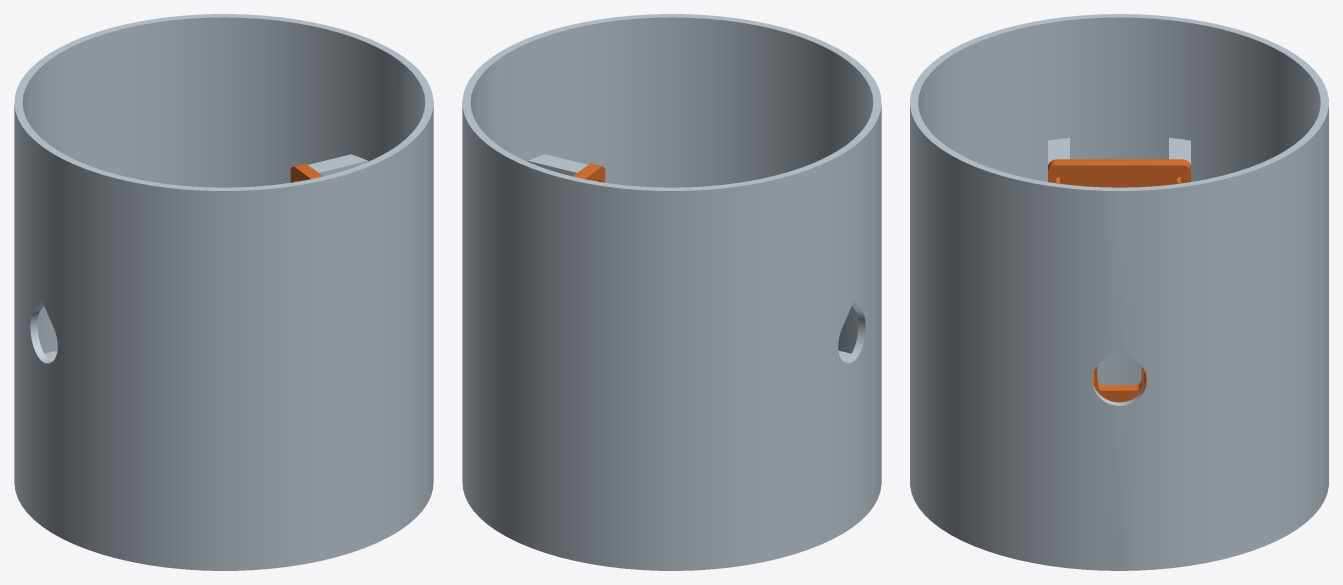
The model's file is pigeon-tube.glb.
The picture shows the model from 3 angles, left to right: view 1: azimuth 30°, elevation 25°; view 2: azimuth 150°, elevation 25°; view 3: azimuth 270°, elevation 25°; orthographic projection.
Parts seen in each view (by area): view 1: pigeon-tube; view 2: pigeon-tube; view 3: pigeon-tube.
Part boxes in pixels (box(x1,y1,x2,y2)): pigeon-tube: box(14, 14, 433, 570); pigeon-tube: box(462, 14, 881, 570); pigeon-tube: box(910, 14, 1328, 570).
Bounding box in the file's own units: 0.1524 × 0.1524 × 0.1523.
